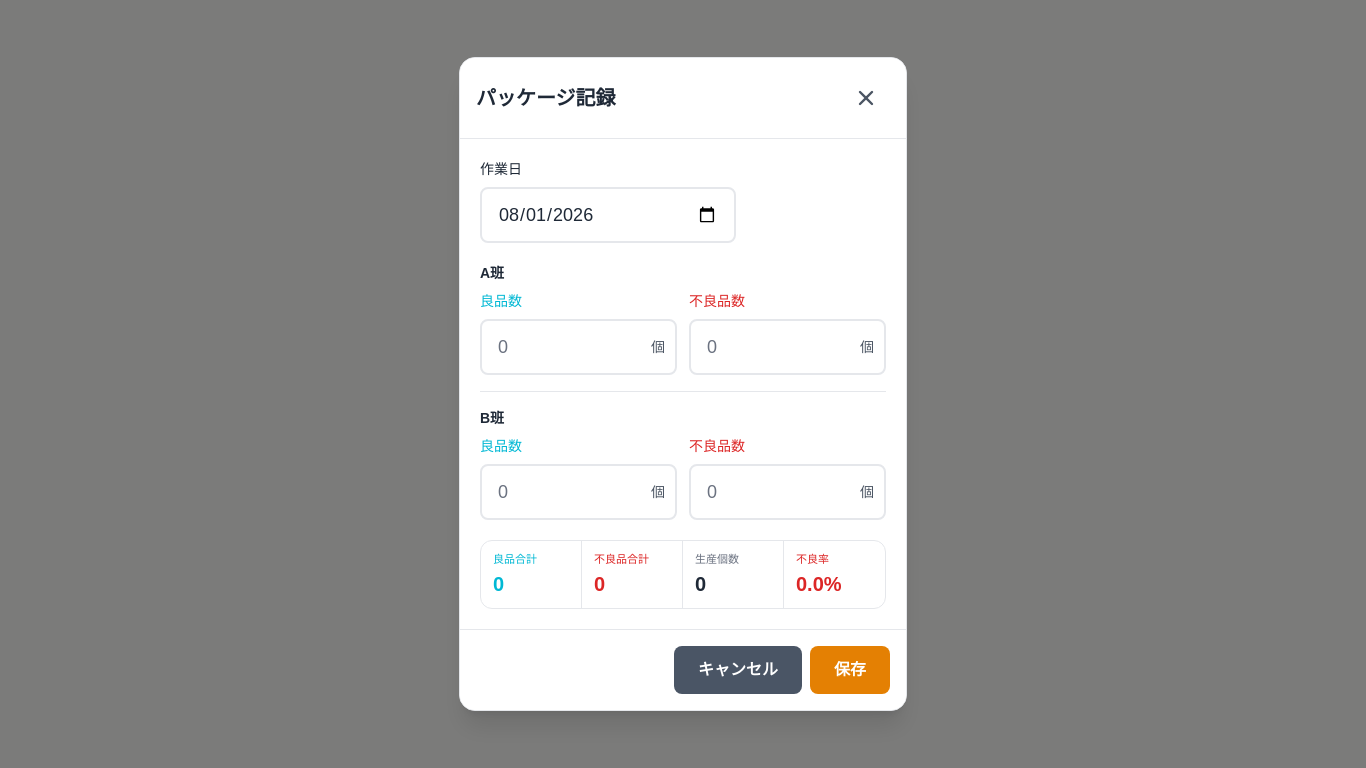
Test: PackageEntryModal › 保存処理が失敗するとエラーを表示する
Type "10" into the number field labelled "良品数" below "A班". click: {"x": 578, "y": 347}
box: [480,319,677,375]
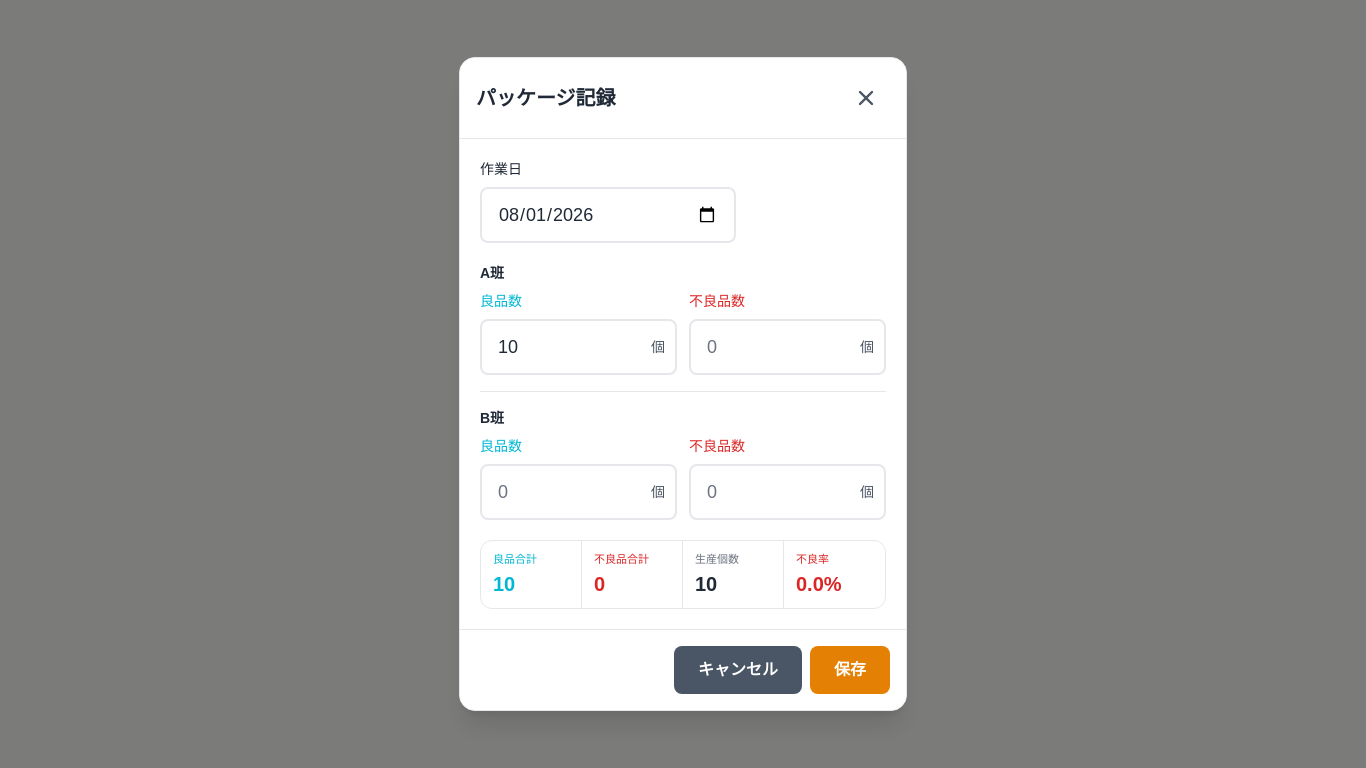
Click the button "保存". click: {"x": 850, "y": 670}
box: [810,646,890,694]
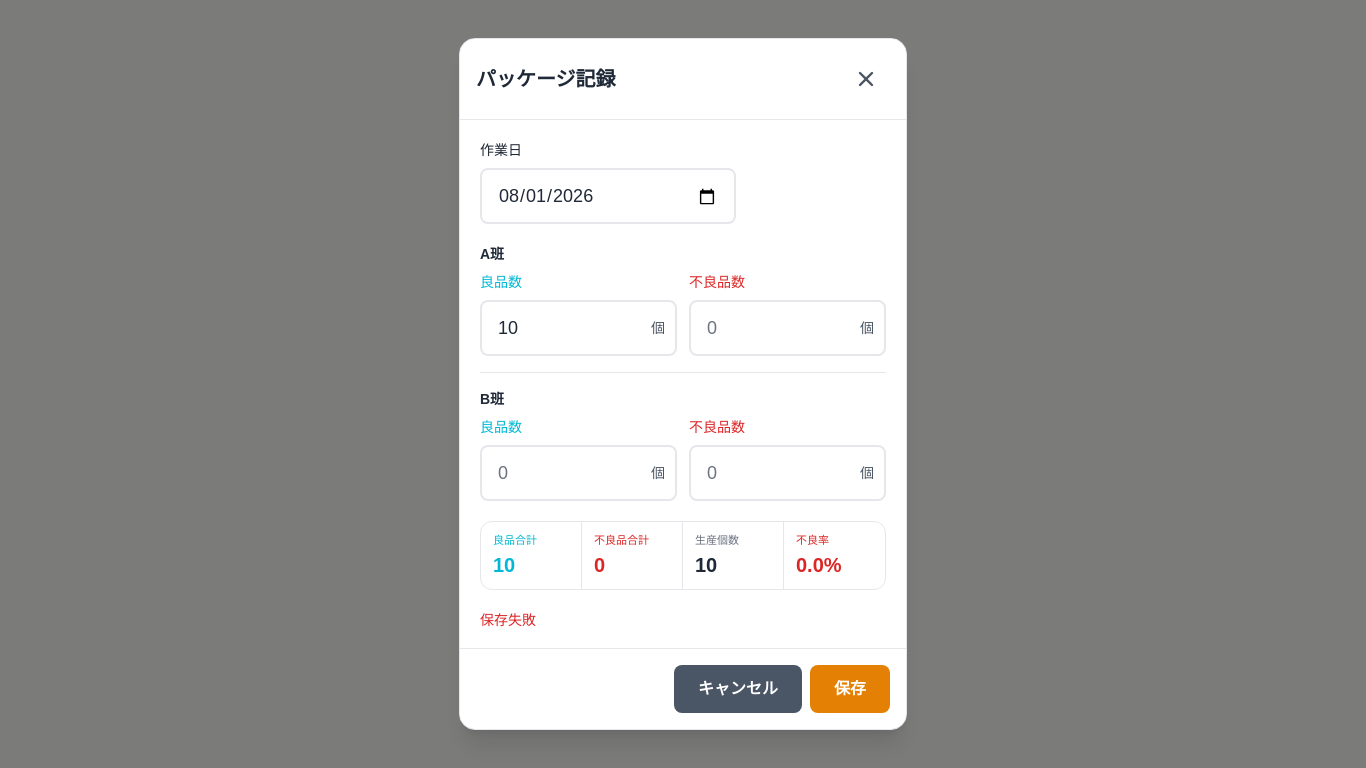
expect the message "保存失敗" is shown: met, box [480,612,536,628]
